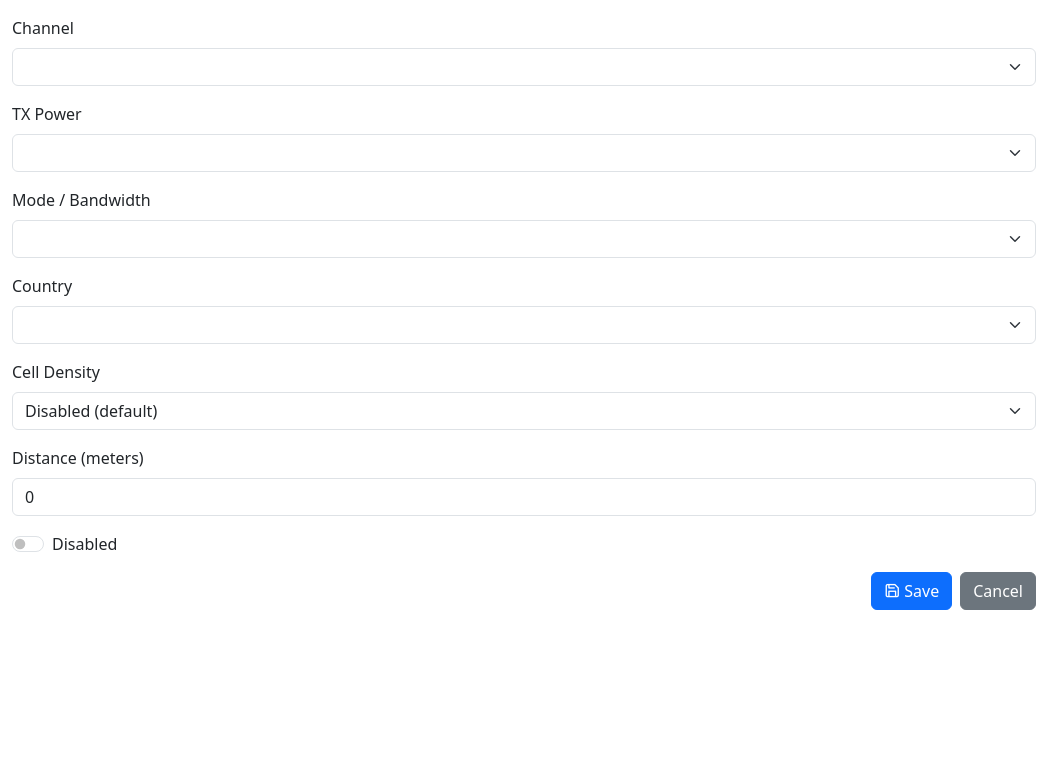
it: RadioConfigForm › rejects submission when the radio reports no selectable channel or htmode at all
Click the button "Save". click: x=912, y=591
box: [871, 572, 952, 610]
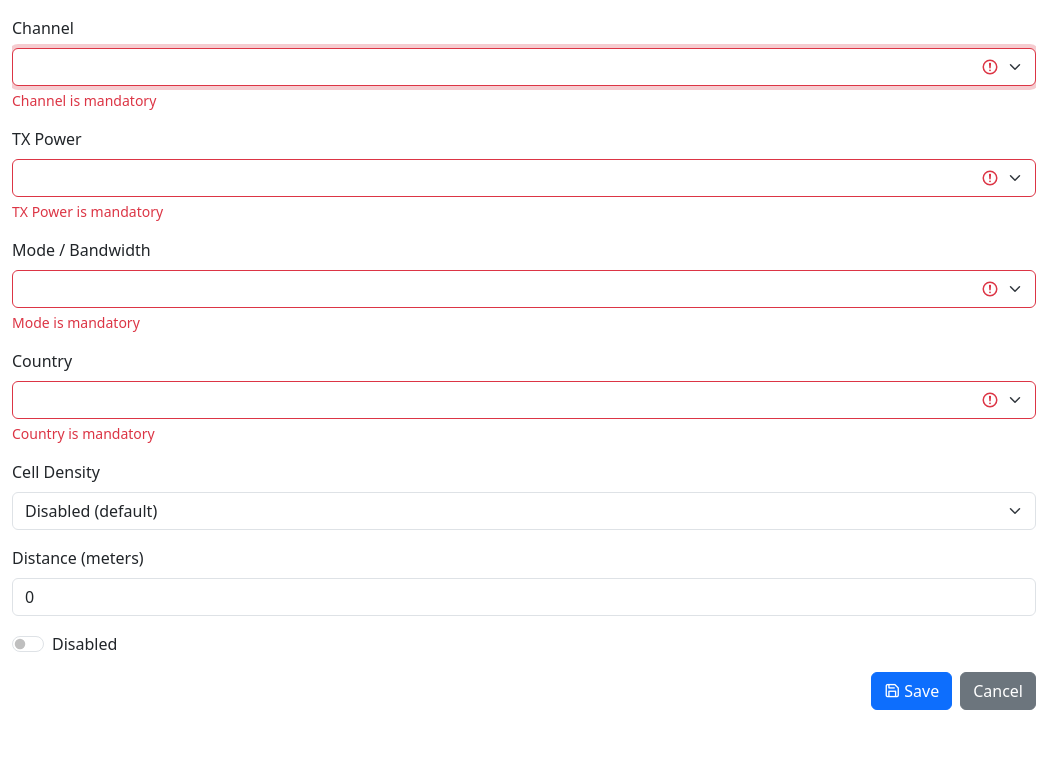
Expected: the text "Channel is mandatory" is shown, [12, 91, 156, 110]
Expected: the text "Mode is mandatory" is shown, [12, 313, 140, 332]
